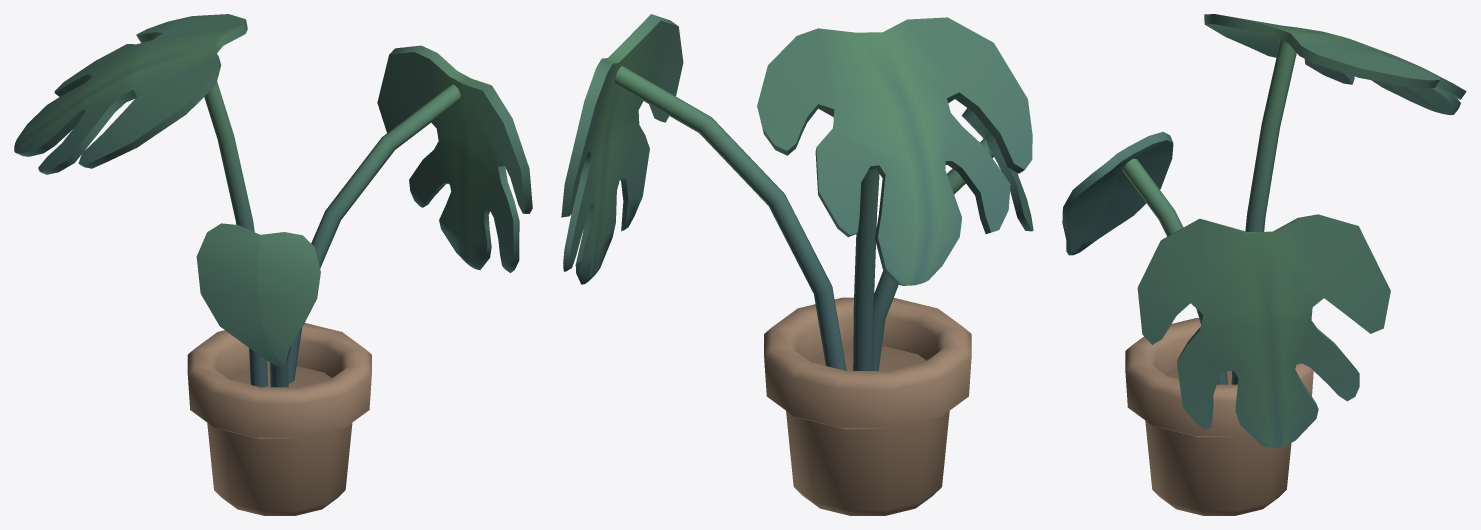
The model's file is kit_plant_small.glb.
The picture shows the model from 3 angles, left to right: view 1: azimuth 30°, elevation 25°; view 2: azimuth 150°, elevation 25°; view 3: azimuth 270°, elevation 25°; orthographic projection. The views are drawn at different scales.
Parts seen in each view (by area): view 1: monstera_plant_small_potted; view 2: monstera_plant_small_potted; view 3: monstera_plant_small_potted.
Part boxes in pixels (left/top/right/bottom): monstera_plant_small_potted: left=14, top=14, right=532, bottom=515; monstera_plant_small_potted: left=561, top=14, right=1033, bottom=515; monstera_plant_small_potted: left=1062, top=14, right=1466, bottom=515.
Bounding box in the file's own units: 0.6314 × 0.6566 × 0.538.
Materials: 1 (1 with a texture image).
